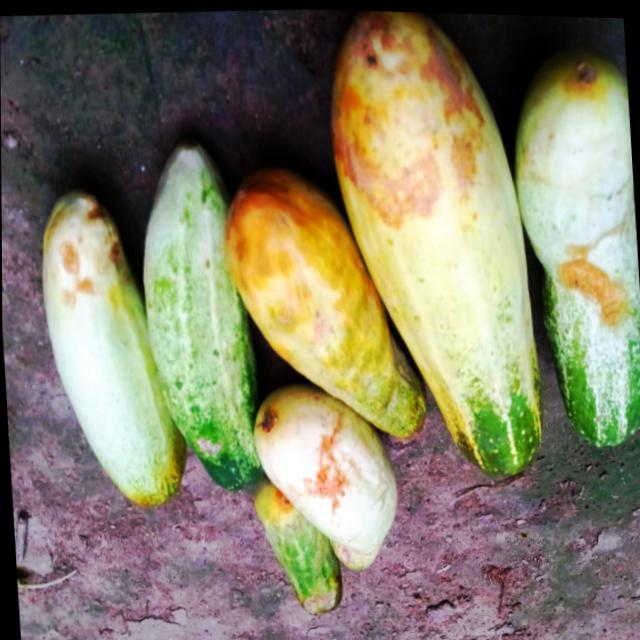Belly-Rot: (320, 7, 499, 237), (546, 223, 639, 332), (37, 203, 127, 311), (297, 406, 356, 513), (301, 586, 336, 614)
